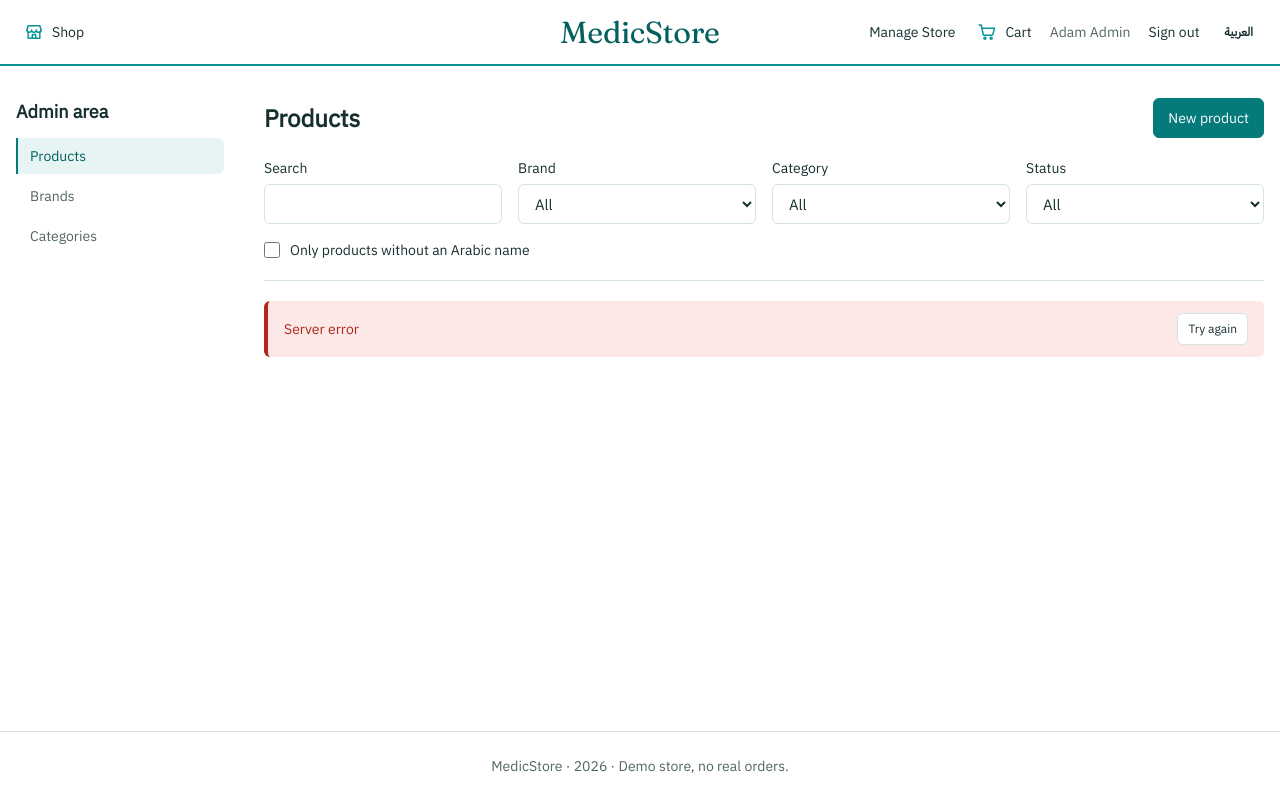
Test case: a failed load shows the error and retrying works
Expected: the message shows "Server error", [284,320,359,338]
Click the button "Try again".
click(1213, 329)  # box [1177,313,1248,345]
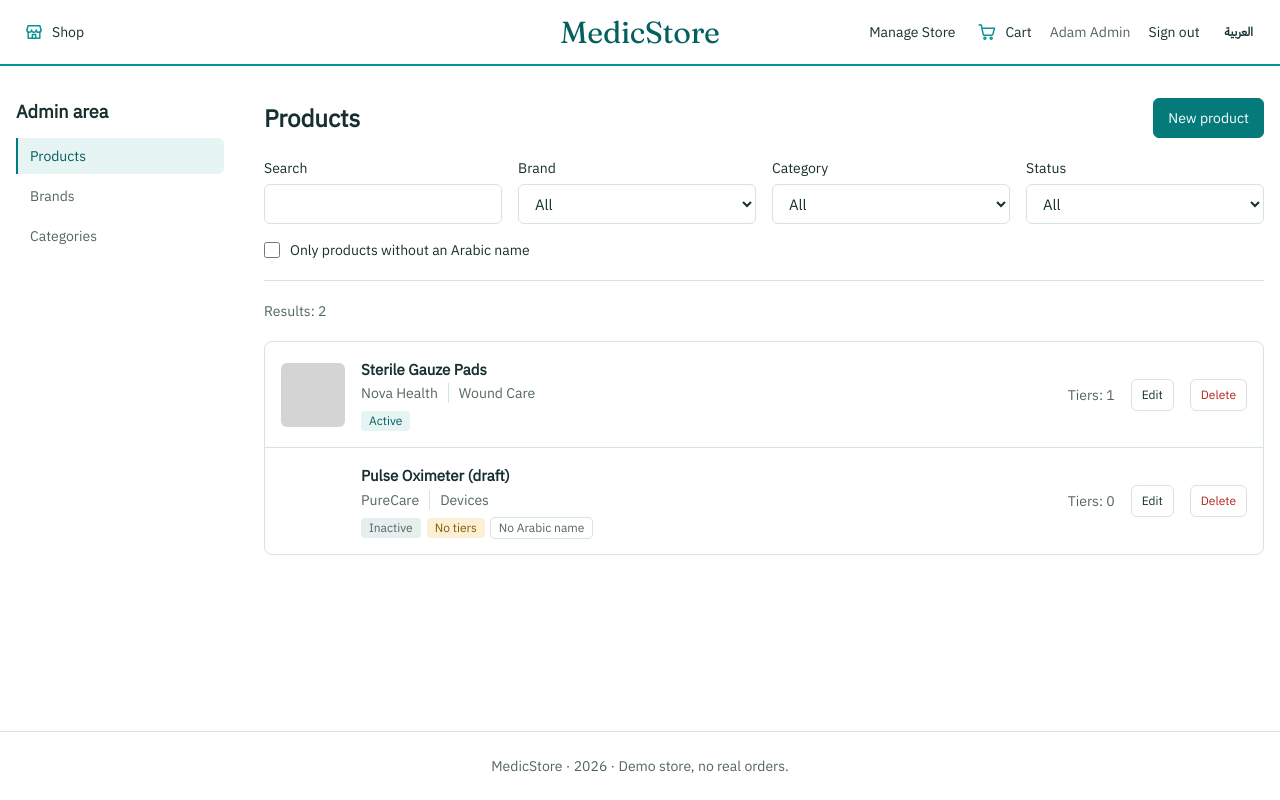
Now the link "Sterile Gauze Pads" is shown, box [361,360,487,379]
